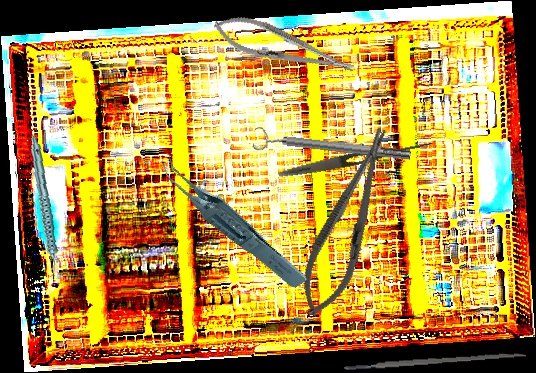Dressing Forceps: (277, 135, 435, 182)
Fixation Ring: (252, 124, 412, 170)
Handpiece: (18, 136, 69, 278)
Needle Holder: (288, 120, 407, 325), (209, 7, 359, 87)
Scalpel Handle: (343, 350, 527, 372)
Tissue Forceps: (157, 129, 309, 312)
